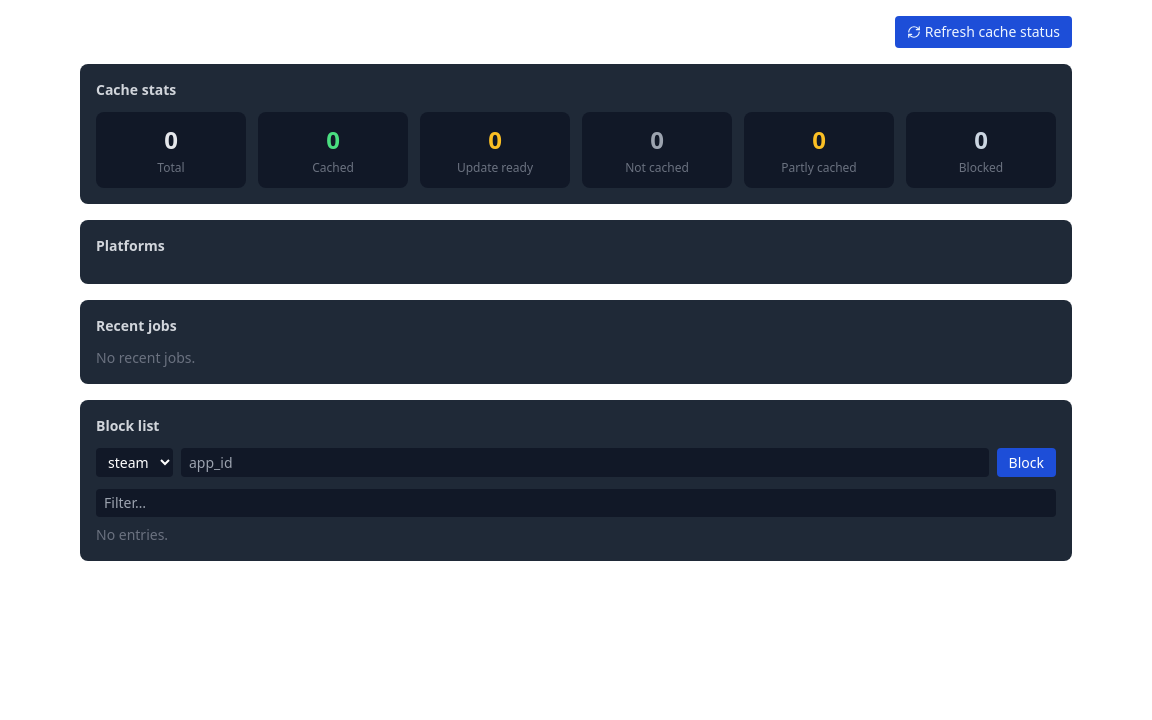
it: Cache page — Refresh cache status (full sweep) › starts a full sweep, polls the sweep job, and reports completion
Click the button "Refresh cache status" at (983, 32), box [895,16,1072,48]
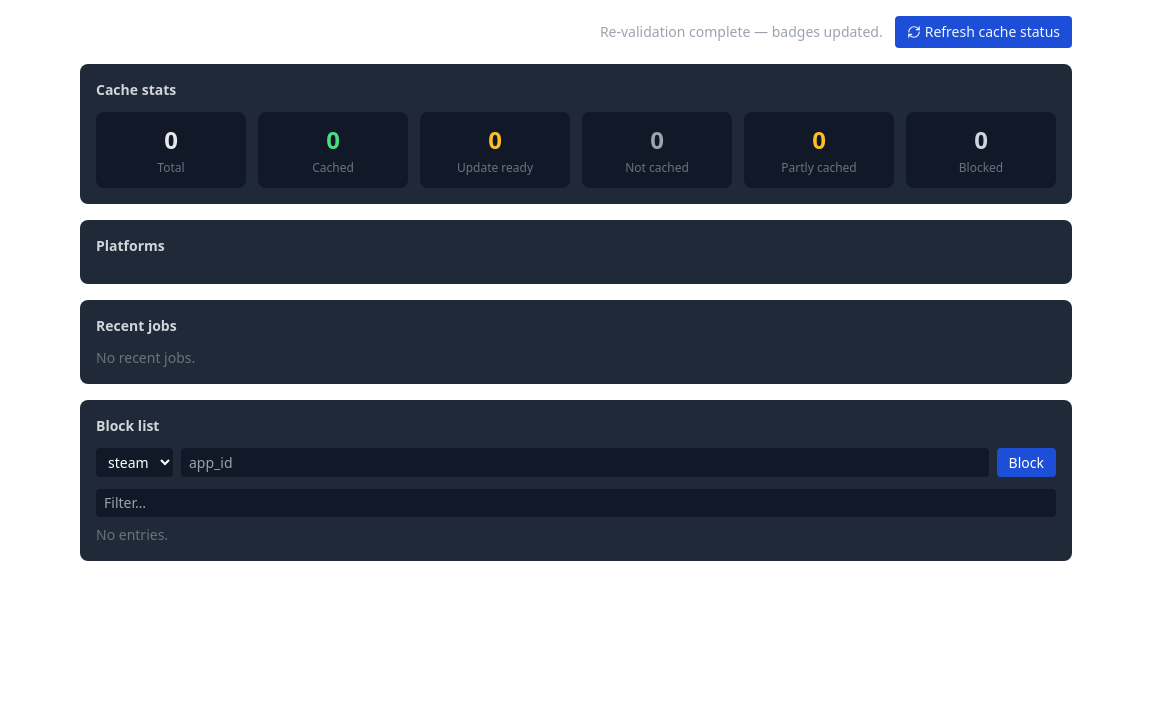
Result: the text "Re-validation complete — badges updated." is shown at [600,22,883,42]
